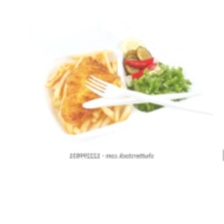foam_box: (23, 5, 207, 146)
